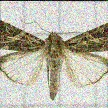Spodoptera litura: (0, 15, 107, 101)
